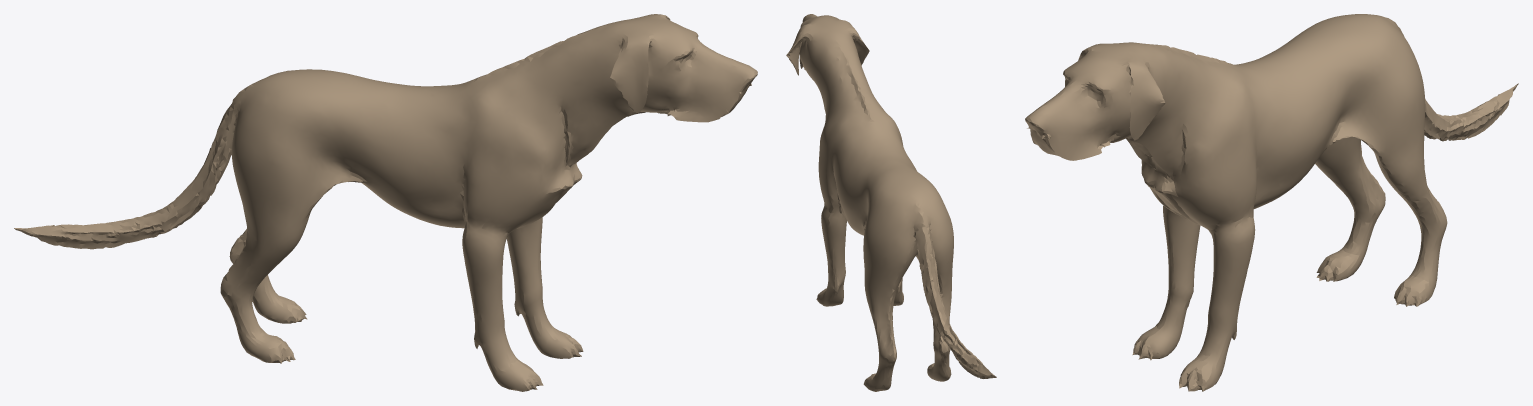
The model's file is dog_from_blender.glb.
3 views of the same model, side by side, from view 1: azimuth 30°, elevation 25°; view 2: azimuth 150°, elevation 25°; view 3: azimuth 270°, elevation 25° (orthographic). The views are drawn at different scales.
Visible parts, largest first — view 1: VetPatient_Dog; view 2: VetPatient_Dog; view 3: VetPatient_Dog.
Part boxes in pixels (left/top/right/bottom): VetPatient_Dog: left=14, top=14, right=757, bottom=391; VetPatient_Dog: left=786, top=14, right=996, bottom=391; VetPatient_Dog: left=1025, top=14, right=1518, bottom=391.
Size of the model in its own units: 2.84 by 1.87 by 2.35.
